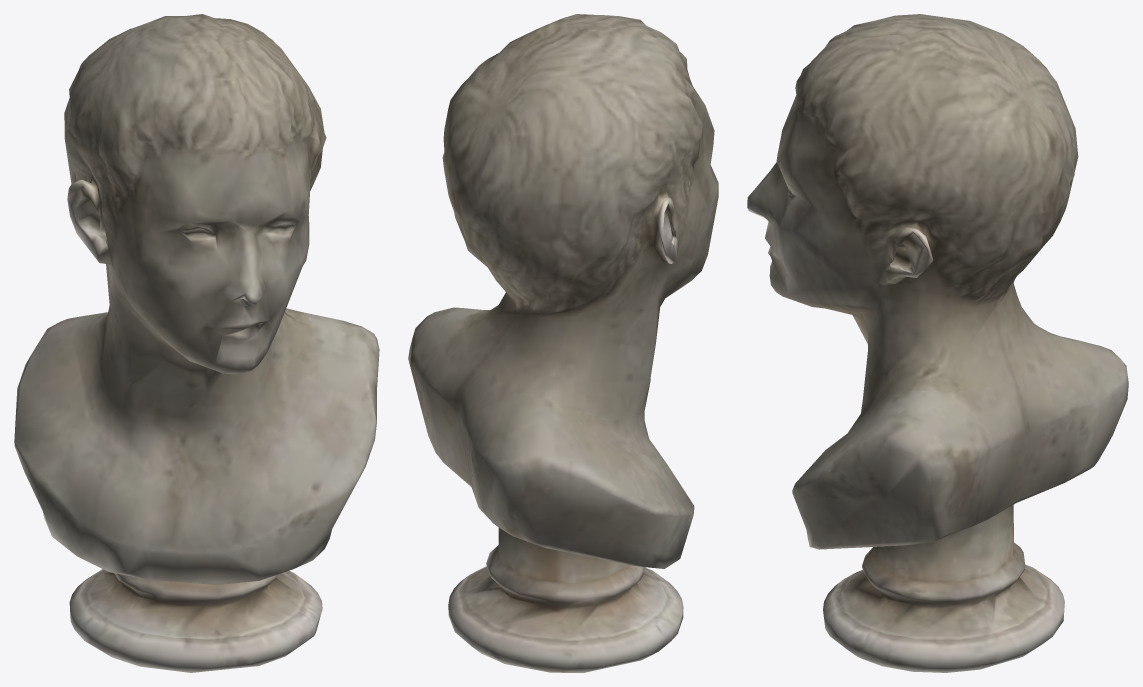
The model's file is ph-marble-bust-01.lod1.glb.
3 views of the same model, side by side, from view 1: azimuth 30°, elevation 25°; view 2: azimuth 150°, elevation 25°; view 3: azimuth 270°, elevation 25° (orthographic). The views are drawn at different scales.
Parts seen in each view (by area): view 1: marble_bust_01; view 2: marble_bust_01; view 3: marble_bust_01.
Part boxes in pixels (x1,y1,x2,y2): marble_bust_01: (14,14,379,672); marble_bust_01: (408,14,718,672); marble_bust_01: (747,14,1128,672).
Bounding box in the file's own units: 0.2217 × 0.4198 × 0.2436.
1 material, 1 textured.
